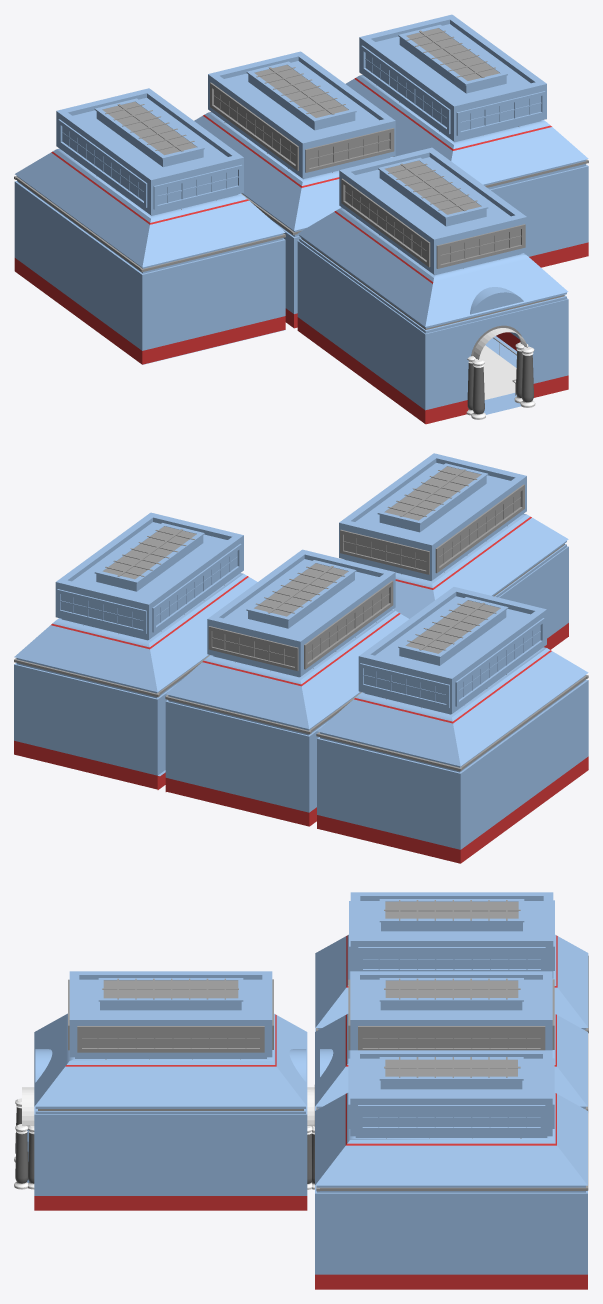
File: art gallary V6.fbx
The picture shows the model from 3 angles, top to bottom: view 1: azimuth 30°, elevation 25°; view 2: azimuth 150°, elevation 25°; view 3: azimuth 270°, elevation 25°; orthographic projection. The views are drawn at different scales.
Visible parts, largest first — view 1: polySurface16, Art_gallary:polySurface352, Art_gallary:polySurface356, Art_gallary:polySurface349, Art_gallary:polySurface343, Art_gallary:polySurface220, polySurface9, polySurface49, Art_gallary:pCube11, Art_gallary:pCube26, Art_gallary:pCube24, Art_gallary:pCube25 (+29 smaller); view 2: polySurface16, Art_gallary:polySurface352, Art_gallary:polySurface349, Art_gallary:polySurface343, Art_gallary:polySurface356, Art_gallary:polySurface220, Art_gallary:pCube11, Art_gallary:pCube24, Art_gallary:pCube26, Art_gallary:pCube25, Art_gallary:polySurface188, Art_gallary:polySurface115 (+30 smaller); view 3: polySurface16, Art_gallary:polySurface356, Art_gallary:polySurface349, Art_gallary:polySurface352, Art_gallary:polySurface343, Art_gallary:polySurface220, Art_gallary:polySurface197, Art_gallary:polySurface64, Art_gallary:polySurface139, Art_gallary:polySurface87, polySurface9, Art_gallary:pCube11 (+18 smaller).
Part boxes in pixels (x1,y1,x2,y2): polySurface16: (14,164,588,424); Art_gallary:polySurface352: (15,88,285,267); Art_gallary:polySurface356: (298,147,568,326); Art_gallary:polySurface349: (346,14,588,184); Art_gallary:polySurface343: (194,51,395,230); Art_gallary:polySurface220: (94,24,507,218); polySurface9: (298,235,568,334); polySurface49: (479,336,516,409); Art_gallary:pCube11: (385,160,481,214); Art_gallary:pCube26: (102,101,196,155); Art_gallary:pCube24: (254,65,348,117); Art_gallary:pCube25: (406,28,499,80); polySurface16: (14,547,588,863); Art_gallary:polySurface352: (317,587,588,766); Art_gallary:polySurface349: (14,512,257,691); Art_gallary:polySurface343: (166,549,408,728); Art_gallary:polySurface356: (339,453,568,618); Art_gallary:polySurface220: (94,463,508,657); Art_gallary:pCube11: (384,466,480,520); Art_gallary:pCube24: (254,563,348,616); Art_gallary:pCube26: (406,600,500,653); Art_gallary:pCube25: (103,526,196,579); Art_gallary:polySurface188: (60,594,143,629); Art_gallary:polySurface115: (212,631,294,666); polySurface16: (22,1028,588,1289); Art_gallary:polySurface356: (34,971,307,1106); Art_gallary:polySurface349: (315,1050,587,1185); Art_gallary:polySurface352: (315,892,588,1027); Art_gallary:polySurface343: (315,971,587,1106); Art_gallary:polySurface220: (98,899,524,1080); Art_gallary:polySurface197: (362,1109,540,1126); Art_gallary:polySurface64: (82,1031,259,1047); Art_gallary:polySurface139: (363,952,540,968); Art_gallary:polySurface87: (362,1031,540,1047); polySurface9: (34,1106,307,1114); Art_gallary:pCube11: (103,980,238,998).
Bounding box in the file's own units: 7963 × 2954 × 8298.
